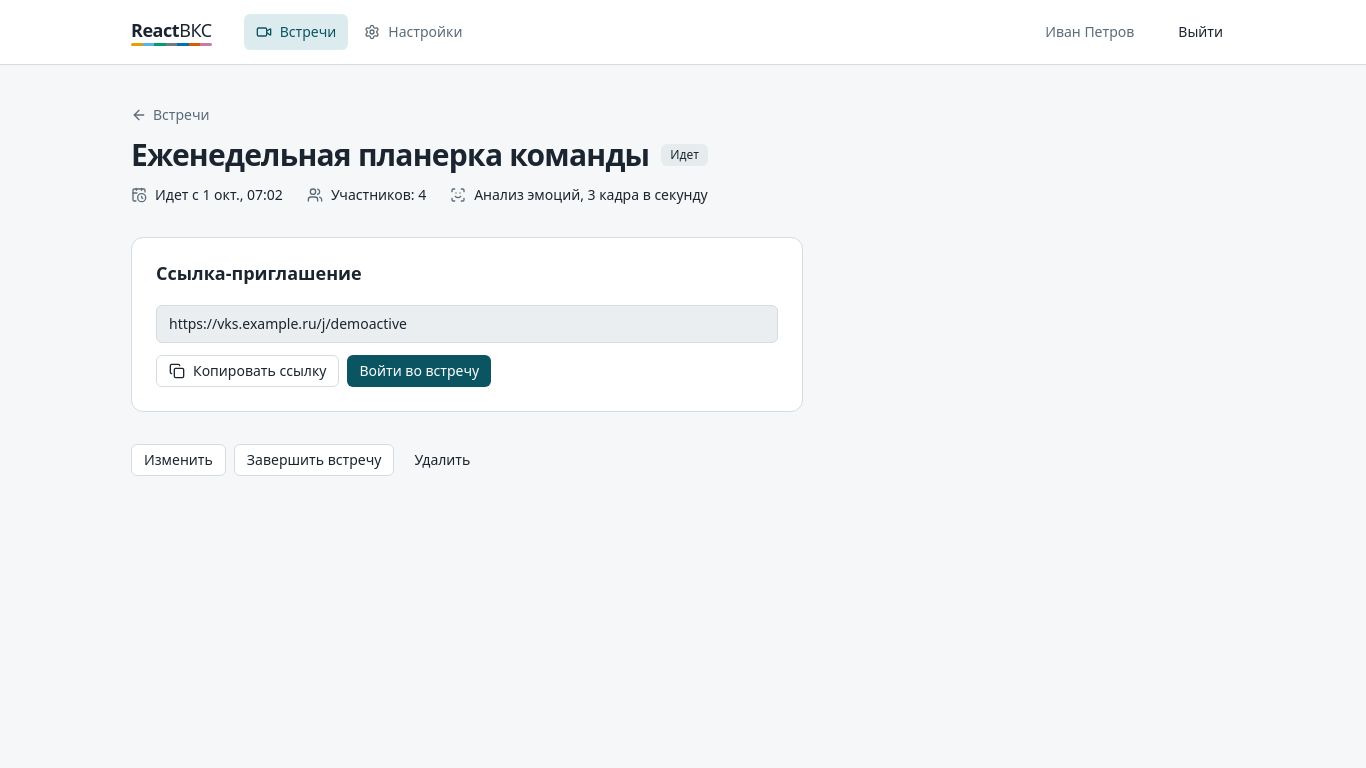
Scenario: карточка встречи › управление › у начатой встречи правится только название
Click the button "Изменить".
click(178, 460)  # box [131,444,226,476]
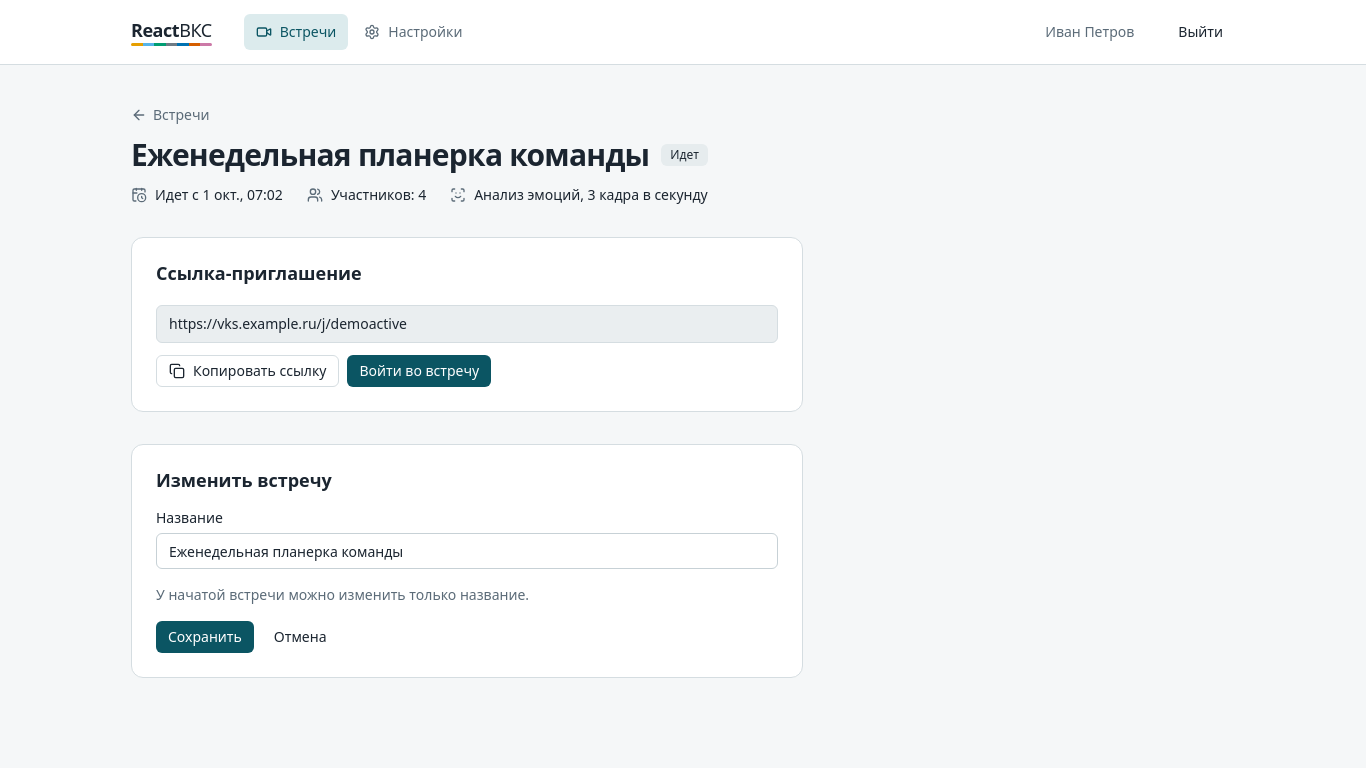
Check: the field labelled "Название" is shown, box [156,533,778,569]
Check: the text "У начатой встречи можно изменить только название." is shown, box [156,585,529,604]
